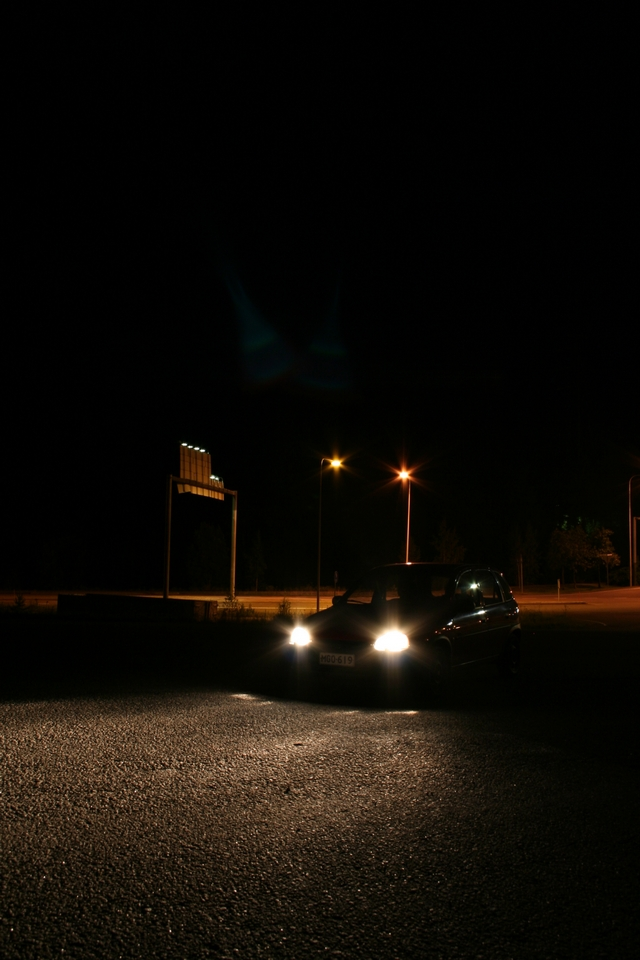car: (277, 548, 532, 718)
